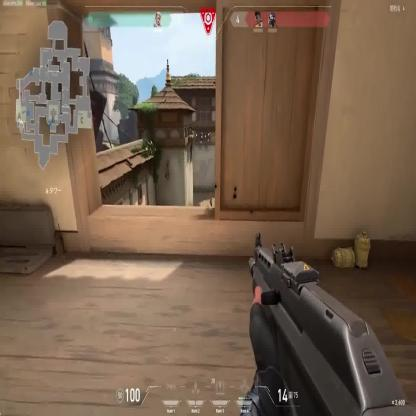enemy: (209, 192, 212, 207)
enemy_head: (210, 192, 212, 197)
